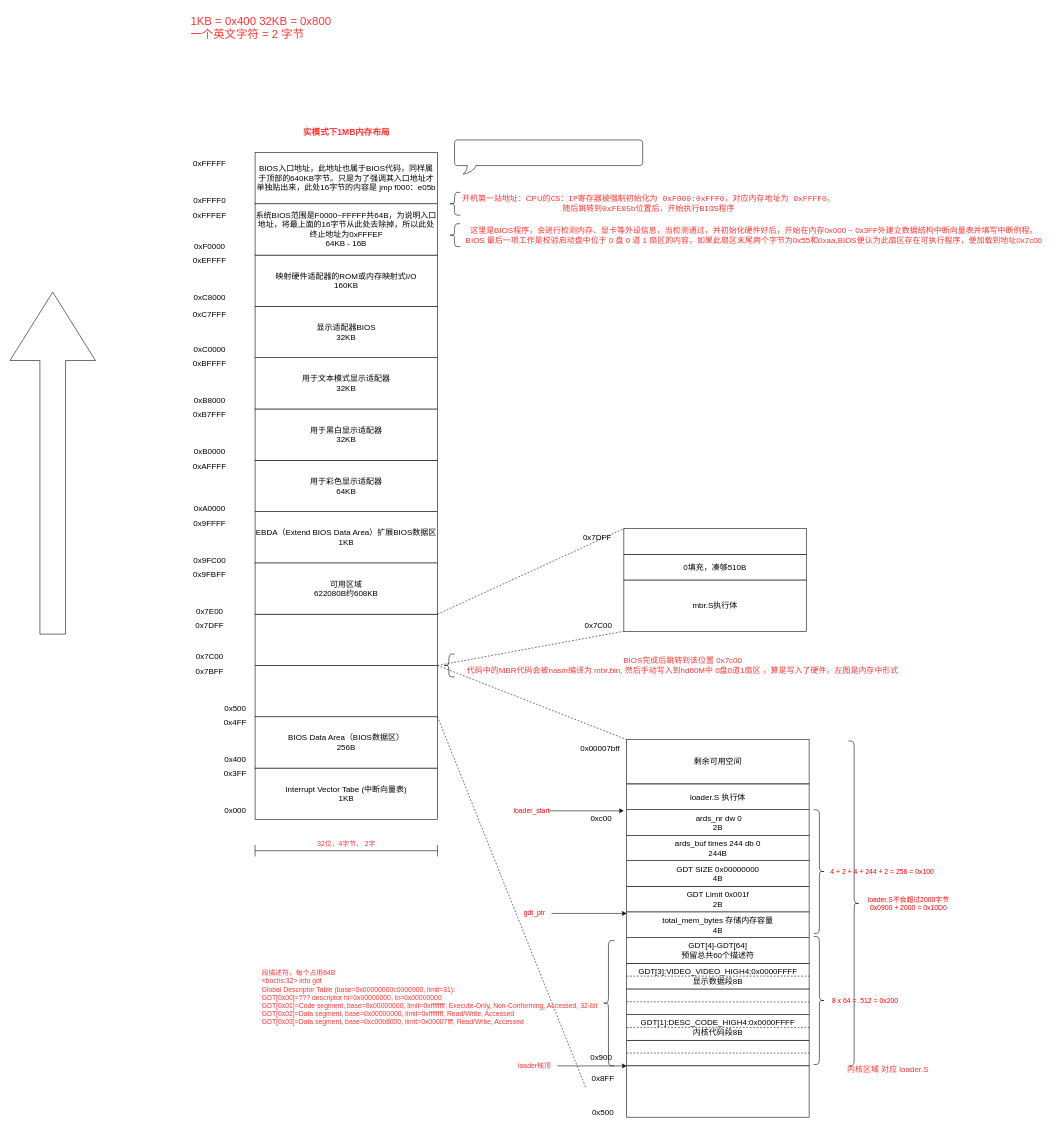
Image size: 1057x1131. Some labels were removed from this diagram. The shapes that lost their labels are listed below. From the top down, each one's centre as x and y in pixels, then its label:
At [548,156]: "jmp f000：e05b 对应地址为 f000 < 4 + e05b = 0xfe05b".
At [52,463]: "程序执行方向".
At [714,541]: "魔数 0x55,0xaa".
At [346,639]: "MBR被BIOS加载到此处 512B".
At [346,691]: "可用区域 30648B 约30KB".
At [717,1001]: "GDT[2]:DESC_DATA_HIGH4:0x0000FFFF 数据段8B".
At [717,1053]: "GDT[0]：0x00000000:0x00000000 8字节空描述符8B".
At [717,1091]: "loader_stack 1KB".
